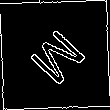M_SE: (21, 21, 89, 89)
